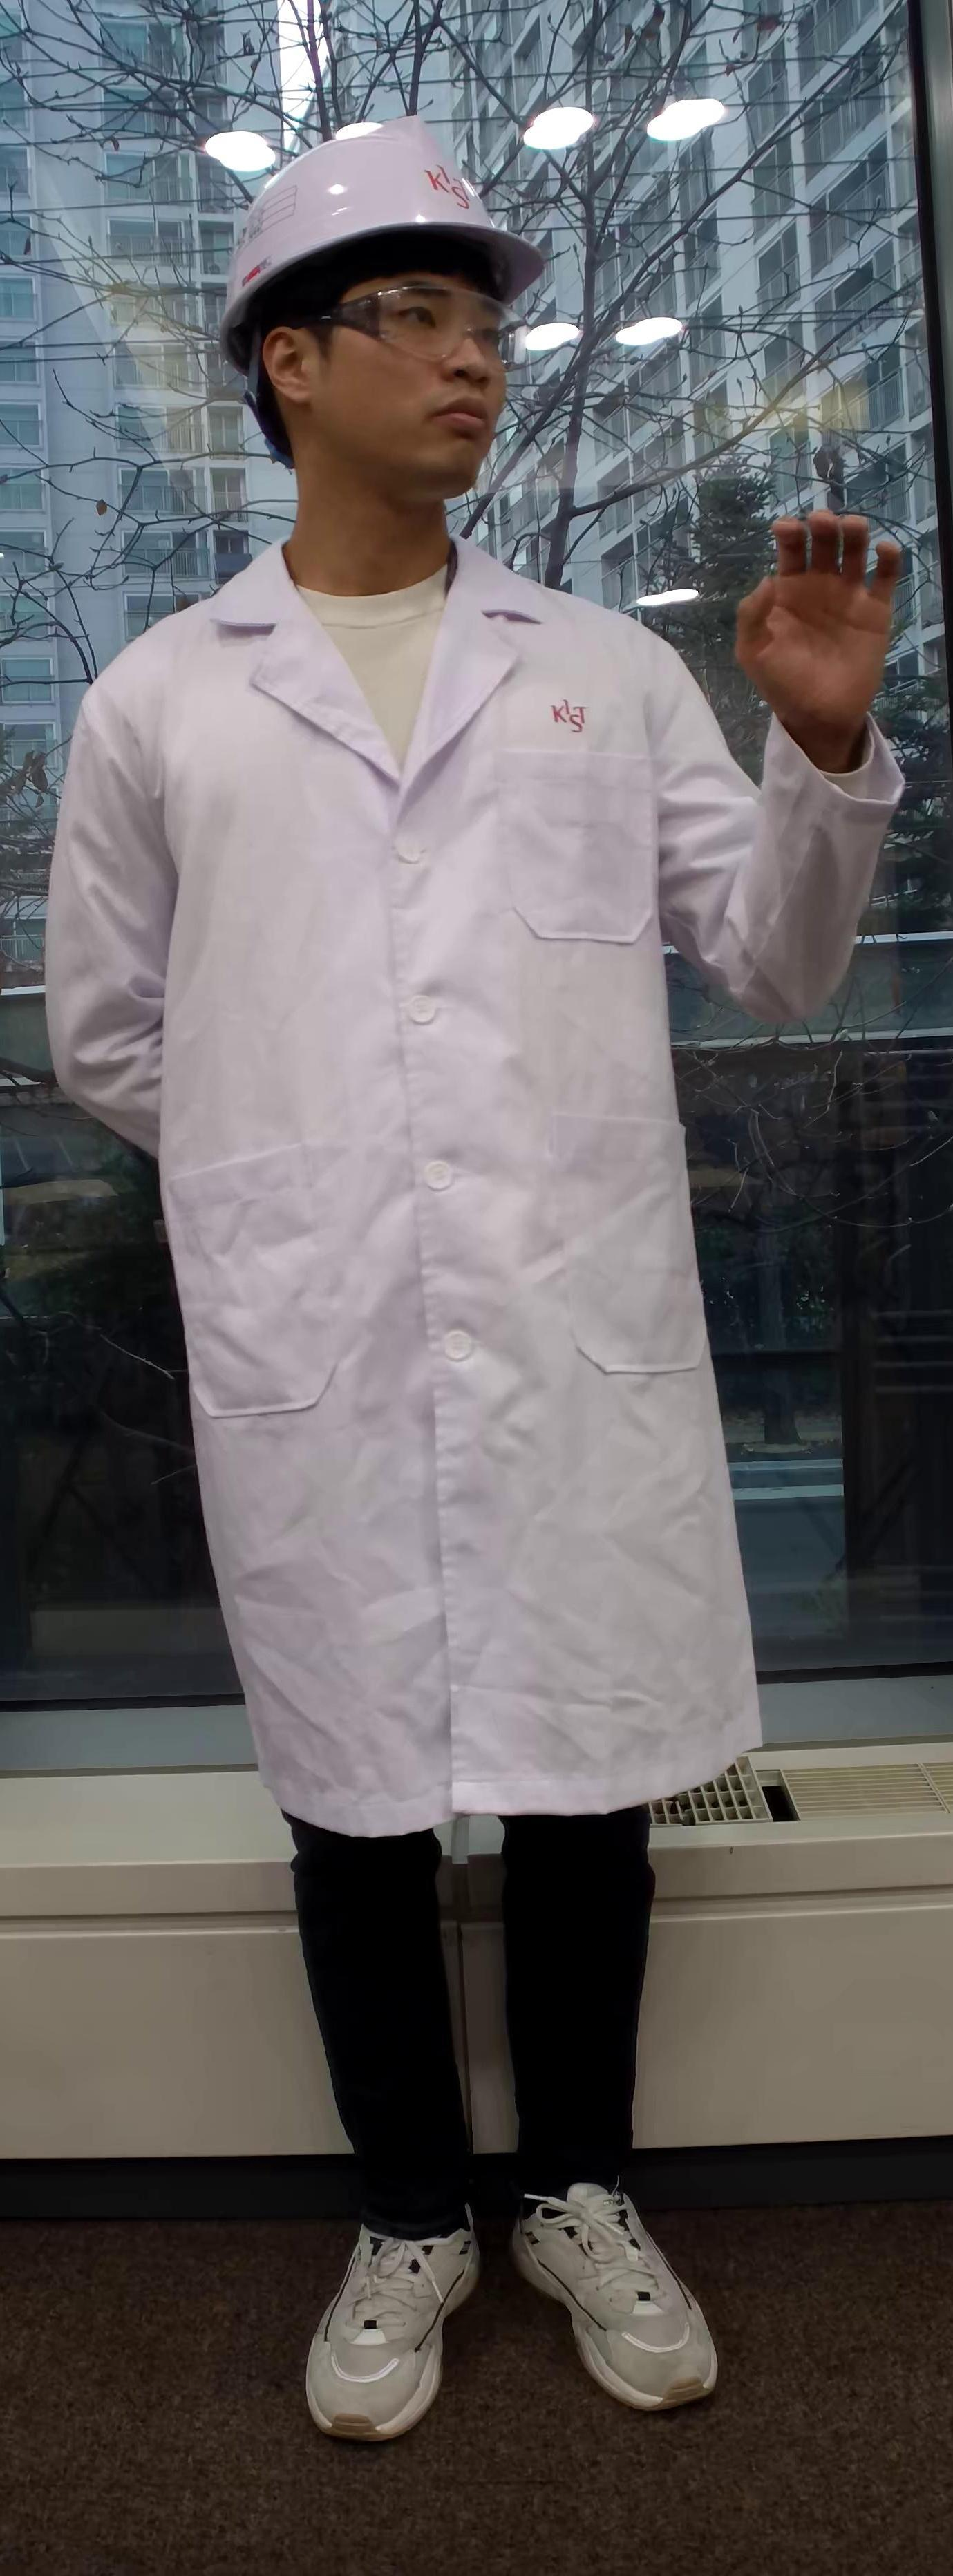lab_coat: (151, 593, 756, 1822)
